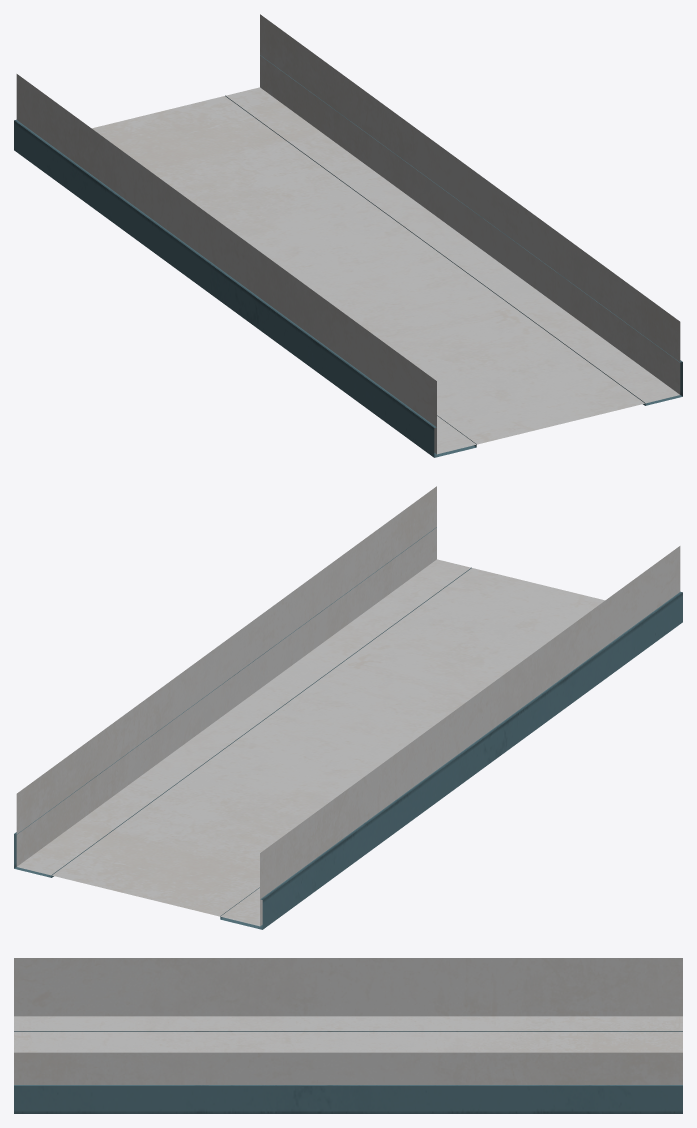
Rendered from HH_Hospital_Corridor_Beams_A_2m.fbx.
3 renders of one model, top to bottom at view 1: azimuth 30°, elevation 25°; view 2: azimuth 150°, elevation 25°; view 3: azimuth 270°, elevation 25°, orthographic. The views are drawn at different scales.
Visible parts, largest first — view 1: HH_Hospital_Corridor_Beams_A_2m; view 2: HH_Hospital_Corridor_Beams_A_2m; view 3: HH_Hospital_Corridor_Beams_A_2m.
Boxes of the visible parts, left/top/right/bottom form: HH_Hospital_Corridor_Beams_A_2m: left=14, top=14, right=682, bottom=457; HH_Hospital_Corridor_Beams_A_2m: left=14, top=486, right=682, bottom=929; HH_Hospital_Corridor_Beams_A_2m: left=14, top=958, right=682, bottom=1113.
Bounding box in the file's own units: 68.31 × 20 × 200.
